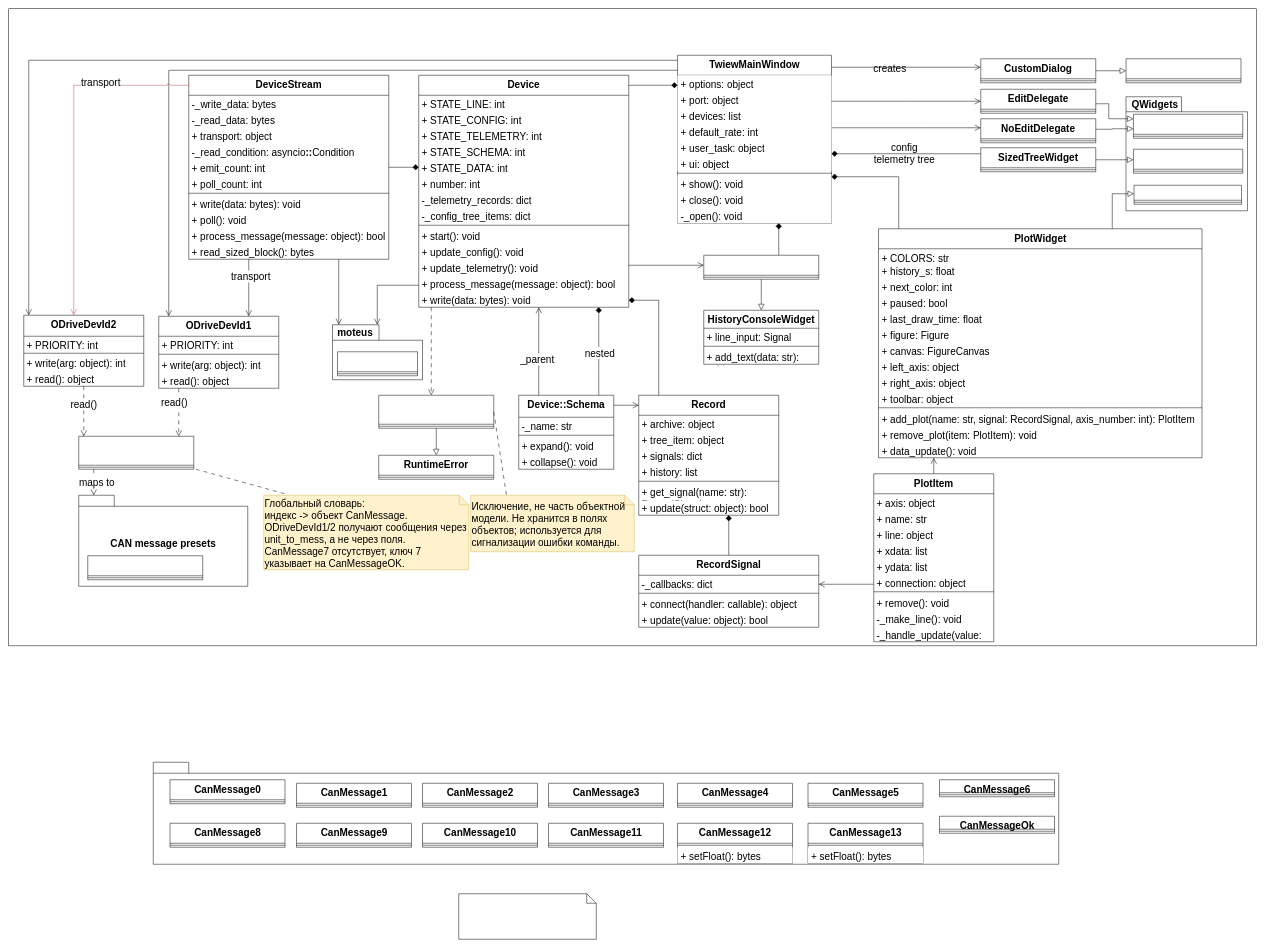
The diagram is 1266 pixels wide and 948 high, and some of its shapes have lost their labels. The shapes that lost their labels are listed below. From the top down, each one's centre as x and y in pixels, then its label:
(1183,70): QDialog
(1188,126): QStyledItemDelegate
(1188,161): QTreeWidget
(1188,194): QWidget
(761,267): TwiewConsoleWidget
(377,363): Controller
(436,411): <<exception>> CommandError
(136,452): <<global dictionary>> unit_to_mess
(145,567): CanMessage0..13/OK
(527,916): CanMessage7 отсутствует; ключ 7 указывает на CanMessageOK.
